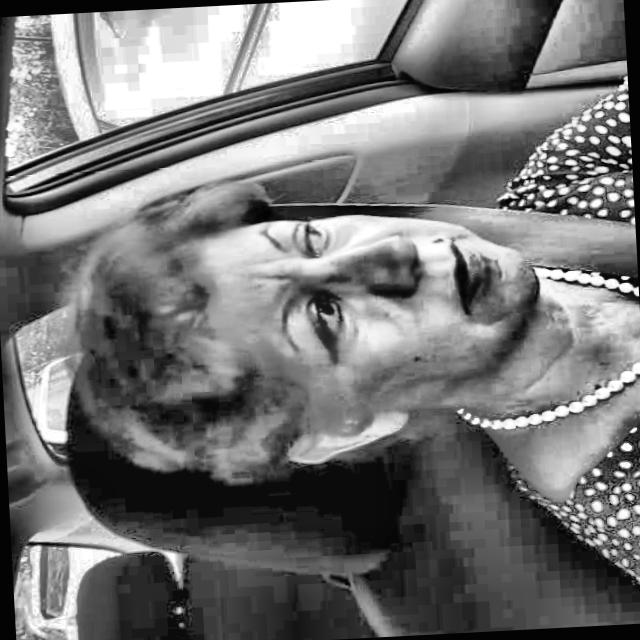closed_mouth: (431, 222, 510, 336)
open_eyes: (296, 291, 364, 361), (287, 214, 344, 270)
